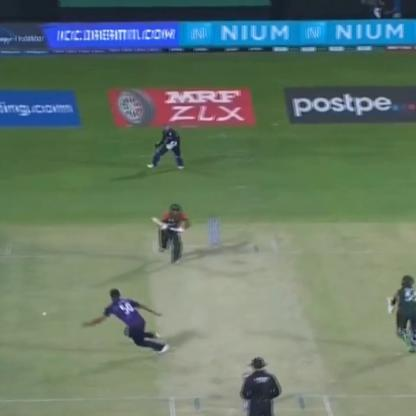ball: (38, 309, 51, 321)
pitch: (143, 233, 336, 415)
